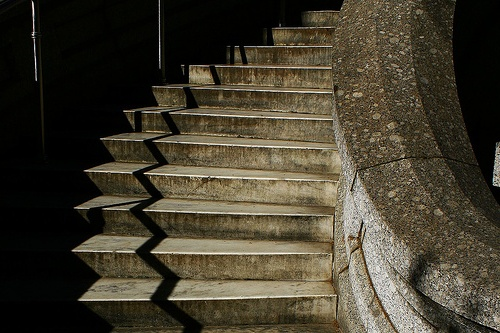stairs_up: (70, 33, 349, 325)
